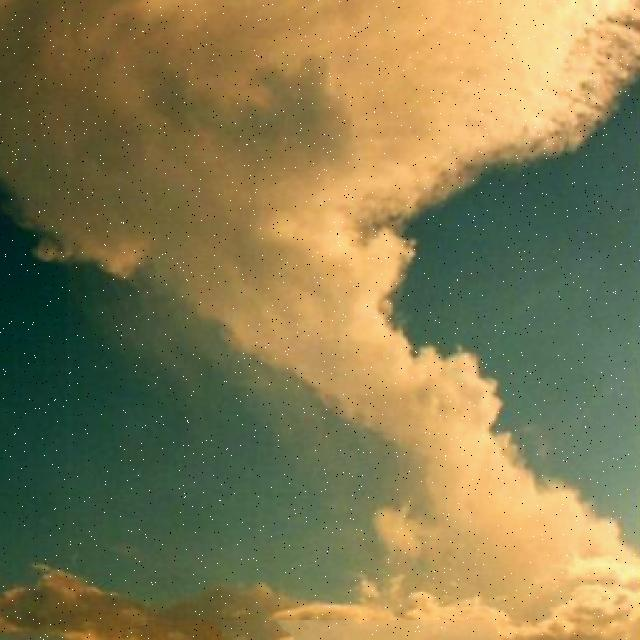Cb: (1, 1, 640, 601)
